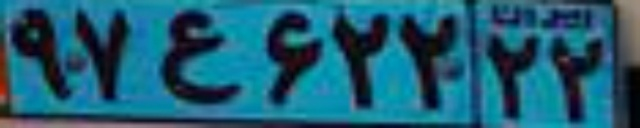2: (399, 13, 461, 110), (329, 10, 389, 109), (483, 34, 539, 118), (551, 35, 604, 121)
6: (257, 10, 322, 104)
7: (70, 7, 131, 101)
9: (9, 8, 73, 98)
ain: (162, 9, 239, 103)
